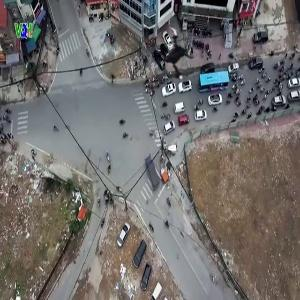drone: (144, 26, 206, 88)
